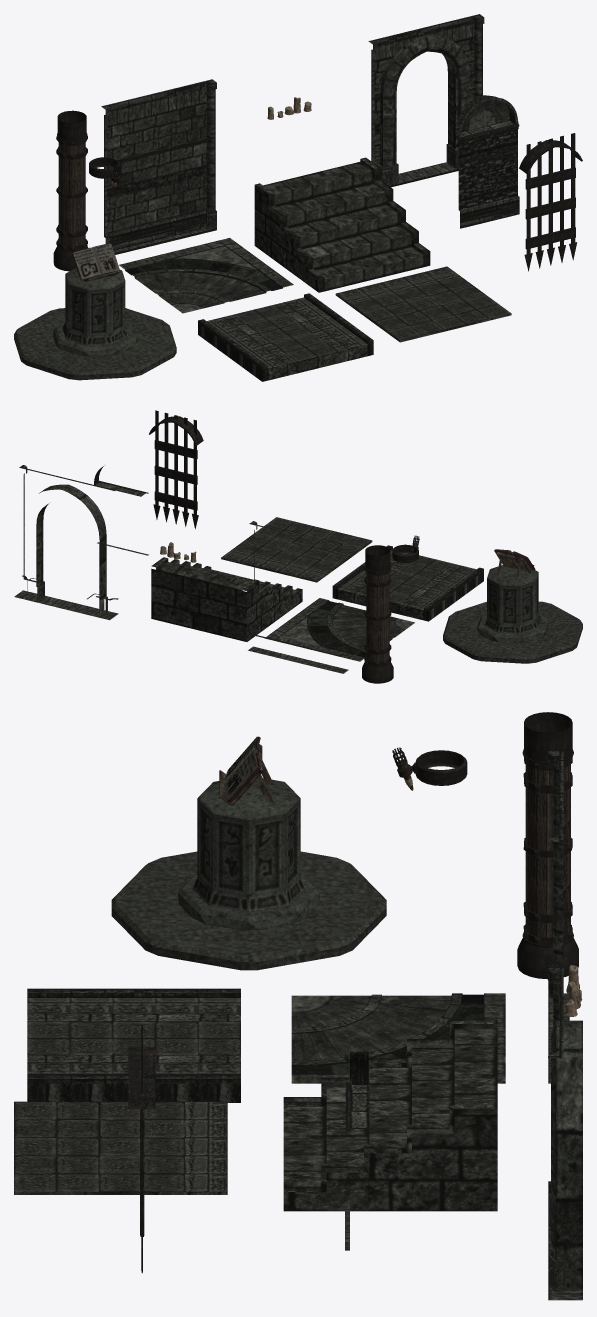
The model's file is dungeon_props.glb.
3 renders of one model, top to bottom at view 1: azimuth 30°, elevation 25°; view 2: azimuth 150°, elevation 25°; view 3: azimuth 270°, elevation 25°, orthographic. The views are drawn at different scales.
Visible parts, largest first — view 1: Wall_10, Stairs_3, Altar_and_Book_2, Door_6, Hallway_Path_3, Floor_Section_3, Floor_Quarter_Section_5, Alcove_4, Pillar_6, Portcullis_3, Torch_5; view 2: Altar_and_Book_2, Stairs_3, Floor_Section_3, Hallway_Path_3, Floor_Quarter_Section_5, Pillar_6, Door_6, Portcullis_3, Wall_10, Torch_5, Alcove_4; view 3: Altar_and_Book_2, Stairs_3, Hallway_Path_3, Floor_Section_3, Floor_Quarter_Section_5, Pillar_6, Door_6, Wall_10, Portcullis_3, Torch_5, Alcove_4.
Part boxes in pixels (x1=…): Wall_10: x1=101, y1=79, x2=216, y2=254; Stairs_3: x1=254, y1=157, x2=430, y2=292; Altar_and_Book_2: x1=14, y1=243, x2=176, y2=380; Door_6: x1=368, y1=14, x2=484, y2=187; Hallway_Path_3: x1=198, y1=293, x2=373, y2=381; Floor_Section_3: x1=335, y1=266, x2=511, y2=342; Floor_Quarter_Section_5: x1=119, y1=238, x2=293, y2=313; Alcove_4: x1=455, y1=95, x2=519, y2=228; Pillar_6: x1=53, y1=110, x2=87, y2=271; Portcullis_3: x1=519, y1=133, x2=582, y2=271; Torch_5: x1=89, y1=157, x2=120, y2=187; Altar_and_Book_2: x1=443, y1=549, x2=582, y2=663; Stairs_3: x1=151, y1=557, x2=302, y2=641; Floor_Section_3: x1=221, y1=517, x2=372, y2=582; Hallway_Path_3: x1=332, y1=545, x2=483, y2=621; Floor_Quarter_Section_5: x1=265, y1=598, x2=414, y2=661; Pillar_6: x1=362, y1=545, x2=393, y2=683; Door_6: x1=14, y1=465, x2=118, y2=620; Portcullis_3: x1=149, y1=410, x2=203, y2=529; Wall_10: x1=248, y1=521, x2=348, y2=673; Torch_5: x1=392, y1=535, x2=419, y2=563; Alcove_4: x1=94, y1=465, x2=148, y2=555; Altar_and_Book_2: x1=111, y1=736, x2=386, y2=970; Stairs_3: x1=283, y1=1019, x2=497, y2=1211; Hallway_Path_3: x1=27, y1=988, x2=240, y2=1102; Floor_Section_3: x1=14, y1=1101, x2=227, y2=1194; Floor_Quarter_Section_5: x1=291, y1=993, x2=505, y2=1083; Pillar_6: x1=517, y1=712, x2=578, y2=979; Door_6: x1=548, y1=968, x2=582, y2=1300; Wall_10: x1=548, y1=751, x2=569, y2=1083; Portcullis_3: x1=128, y1=1024, x2=155, y2=1273; Torch_5: x1=392, y1=747, x2=467, y2=790; Alcove_4: x1=345, y1=1051, x2=368, y2=1250.
Bounding box in the file's own units: 9.89 × 2.72 × 5.32.
Materials: 5 (5 with a texture image).
